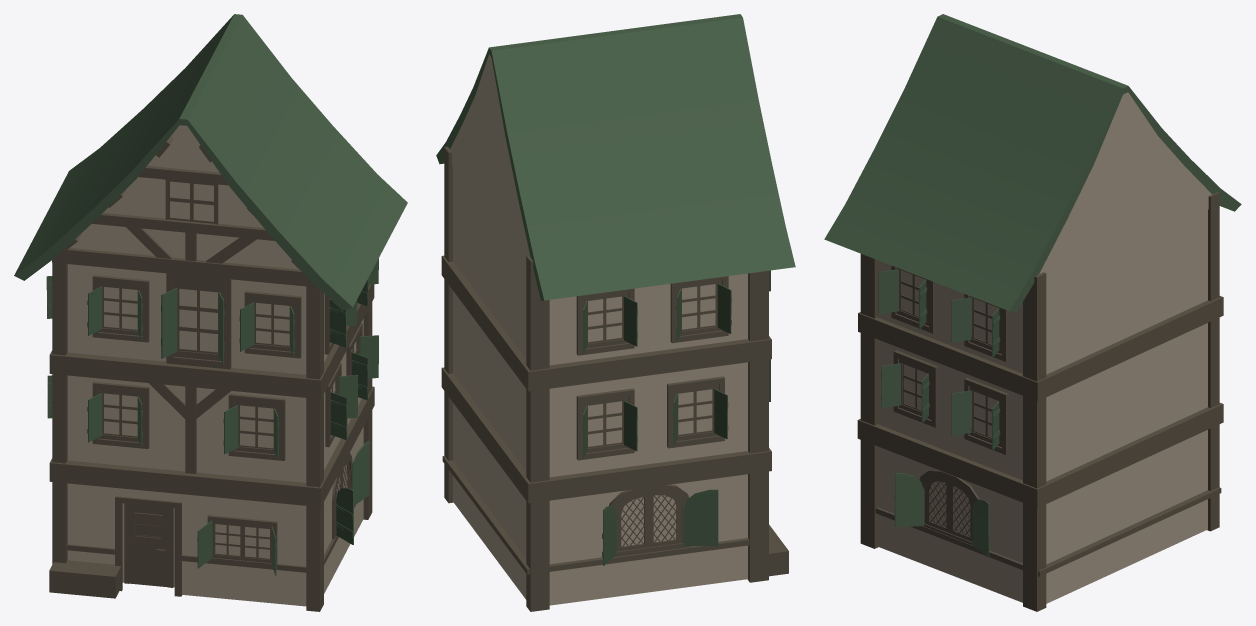
The model's file is House_1.fbx.
3 views of the same model, side by side, from view 1: azimuth 30°, elevation 25°; view 2: azimuth 150°, elevation 25°; view 3: azimuth 270°, elevation 25° (orthographic). The views are drawn at different scales.
Visible parts, largest first — view 1: g_house_1, Window_Shutters_14, Window_Shutters_20, Window_Shutters_19, Window_Shutters_21, Window_Shutters_25, Window_Shutters_9, Window_Shutters_10, Window_Shutters_11, Window_Shutters_40, Window_Shutters_24, Window_Shutters_22 (+2 smaller); view 2: g_house_1, Window_Shutters_29, Window_Shutters_30, Window_Shutters_34, Window_Shutters_32, Window_Shutters_38, Window_Shutters_35; view 3: g_house_1, Window_Shutters_19, Window_Shutters_20, Window_Shutters_21, Window_Shutters_23, Window_Shutters_25, Window_Shutters_27.
Part boxes in pixels (x1=…): g_house_1: x1=14, y1=14, x2=407, y2=611; Window_Shutters_14: x1=161, y1=288, x2=177, y2=358; Window_Shutters_20: x1=351, y1=441, x2=369, y2=505; Window_Shutters_19: x1=335, y1=487, x2=353, y2=544; Window_Shutters_21: x1=330, y1=392, x2=347, y2=440; Window_Shutters_25: x1=329, y1=299, x2=346, y2=347; Window_Shutters_9: x1=87, y1=393, x2=102, y2=442; Window_Shutters_10: x1=87, y1=286, x2=102, y2=335; Window_Shutters_11: x1=223, y1=405, x2=238, y2=454; Window_Shutters_40: x1=239, y1=302, x2=254, y2=351; Window_Shutters_24: x1=359, y1=335, x2=378, y2=378; Window_Shutters_22: x1=338, y1=375, x2=357, y2=418; g_house_1: x1=436, y1=14, x2=795, y2=611; Window_Shutters_29: x1=683, y1=489, x2=718, y2=546; Window_Shutters_30: x1=602, y1=505, x2=616, y2=565; Window_Shutters_34: x1=714, y1=389, x2=728, y2=439; Window_Shutters_32: x1=624, y1=401, x2=637, y2=451; Window_Shutters_38: x1=624, y1=296, x2=637, y2=346; Window_Shutters_35: x1=718, y1=283, x2=731, y2=333; g_house_1: x1=824, y1=14, x2=1241, y2=611; Window_Shutters_19: x1=894, y1=473, x2=923, y2=527; Window_Shutters_20: x1=972, y1=499, x2=989, y2=557; Window_Shutters_21: x1=881, y1=363, x2=901, y2=408; Window_Shutters_23: x1=951, y1=390, x2=971, y2=435; Window_Shutters_25: x1=878, y1=269, x2=898, y2=314; Window_Shutters_27: x1=951, y1=297, x2=971, y2=342.
Size of the model in its own units: 944 by 1185 by 931.
